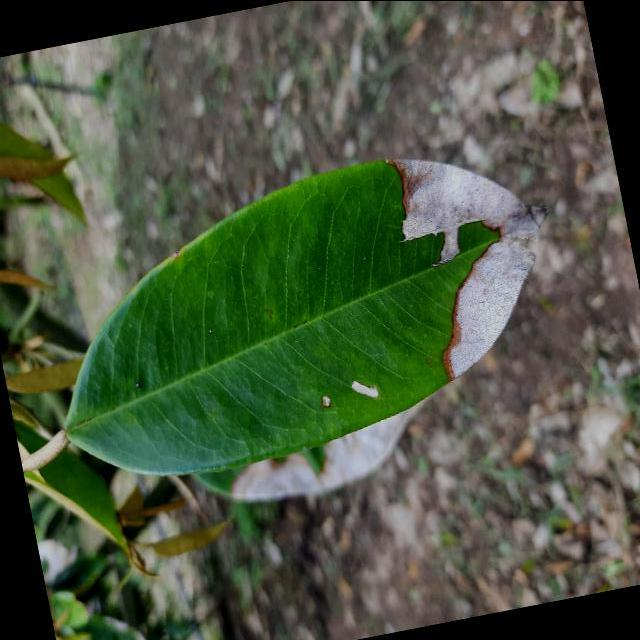Leaf Blight: (17, 124, 599, 541)
